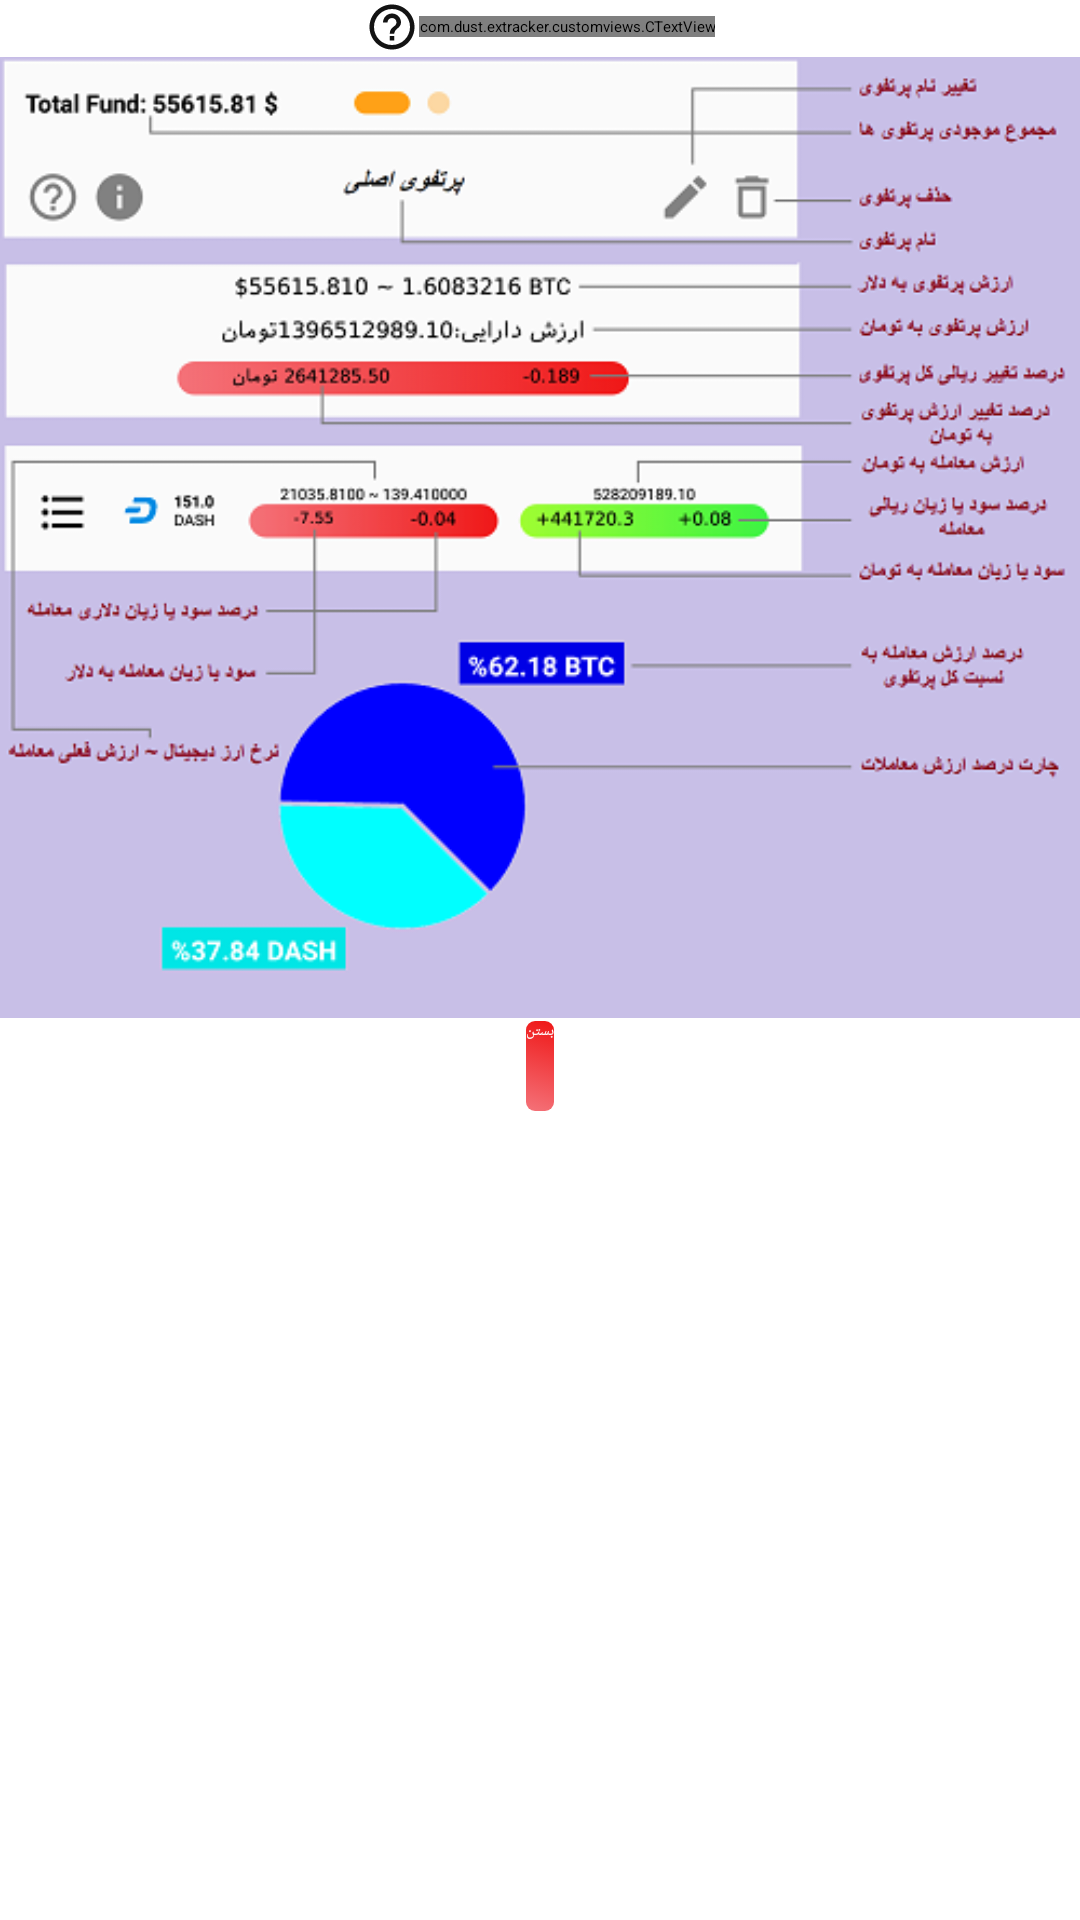

Where to tap for icons on this 1080 × 1920 app screen, as [x,y]:
help: [392,27]
